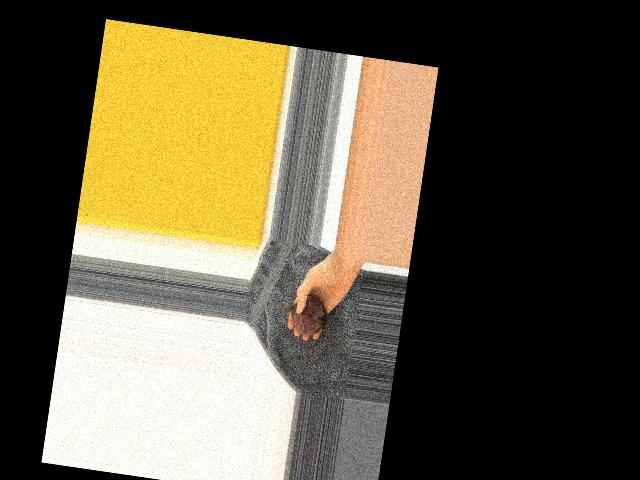beet: (259, 289, 331, 338)
